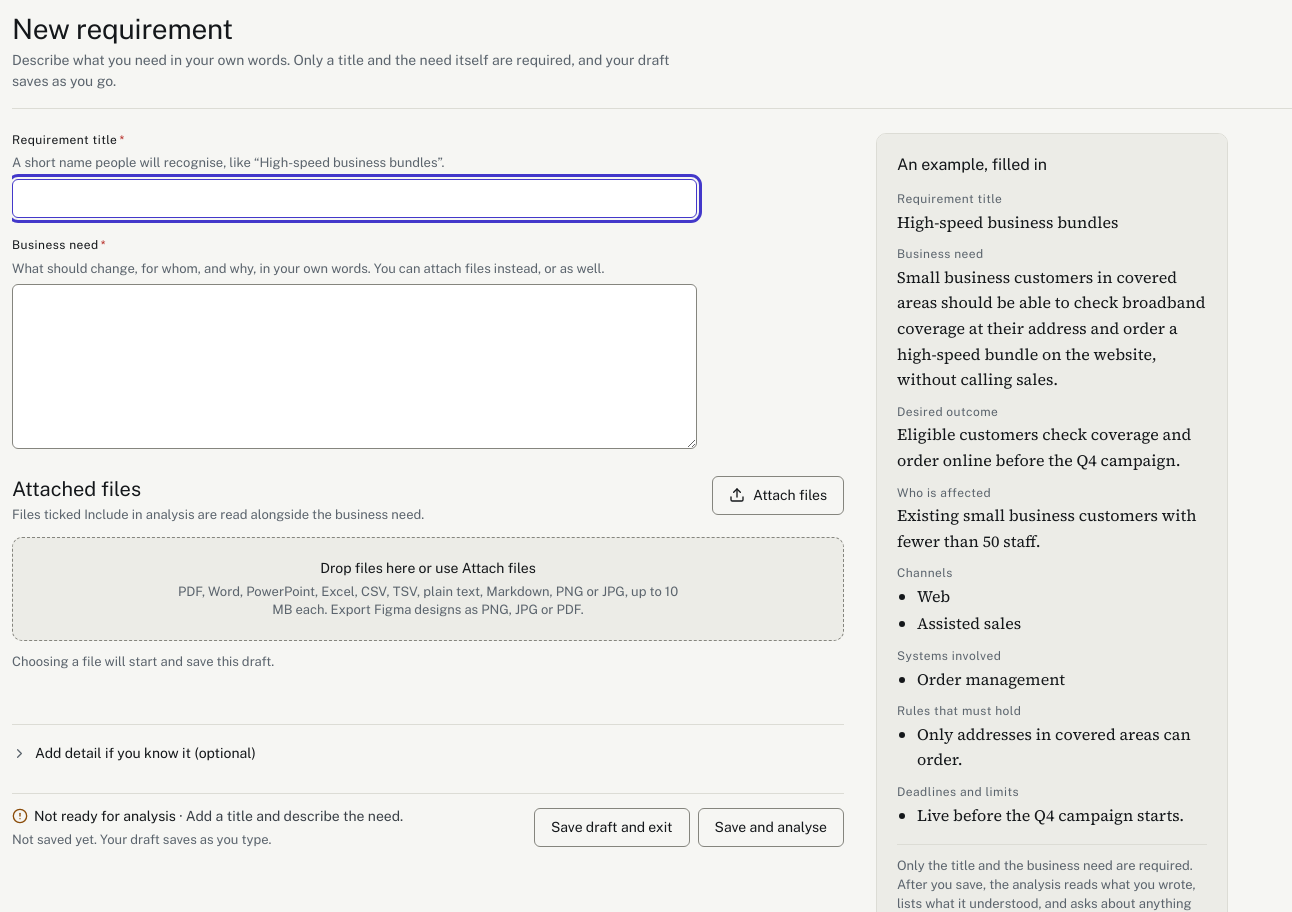
Test: NewRequirementPage › keeps the saved requirement available when analysis fails
Type "Safe draft" into the field labelled "Requirement title*" at (355,198), box [12, 179, 697, 218]
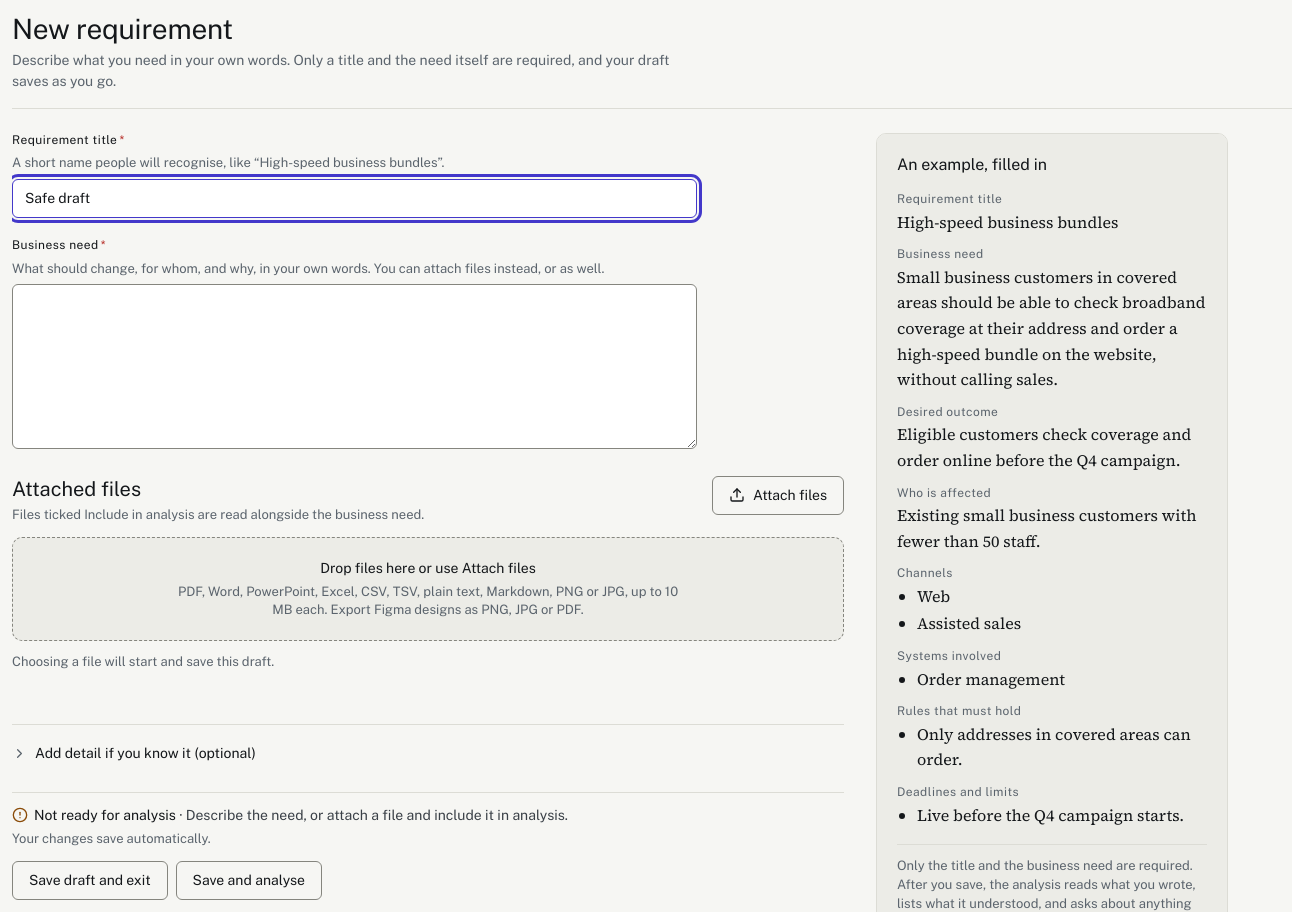
Type "A preserved source." into the text box labelled "Business need*" at (355,367), box [12, 284, 697, 450]
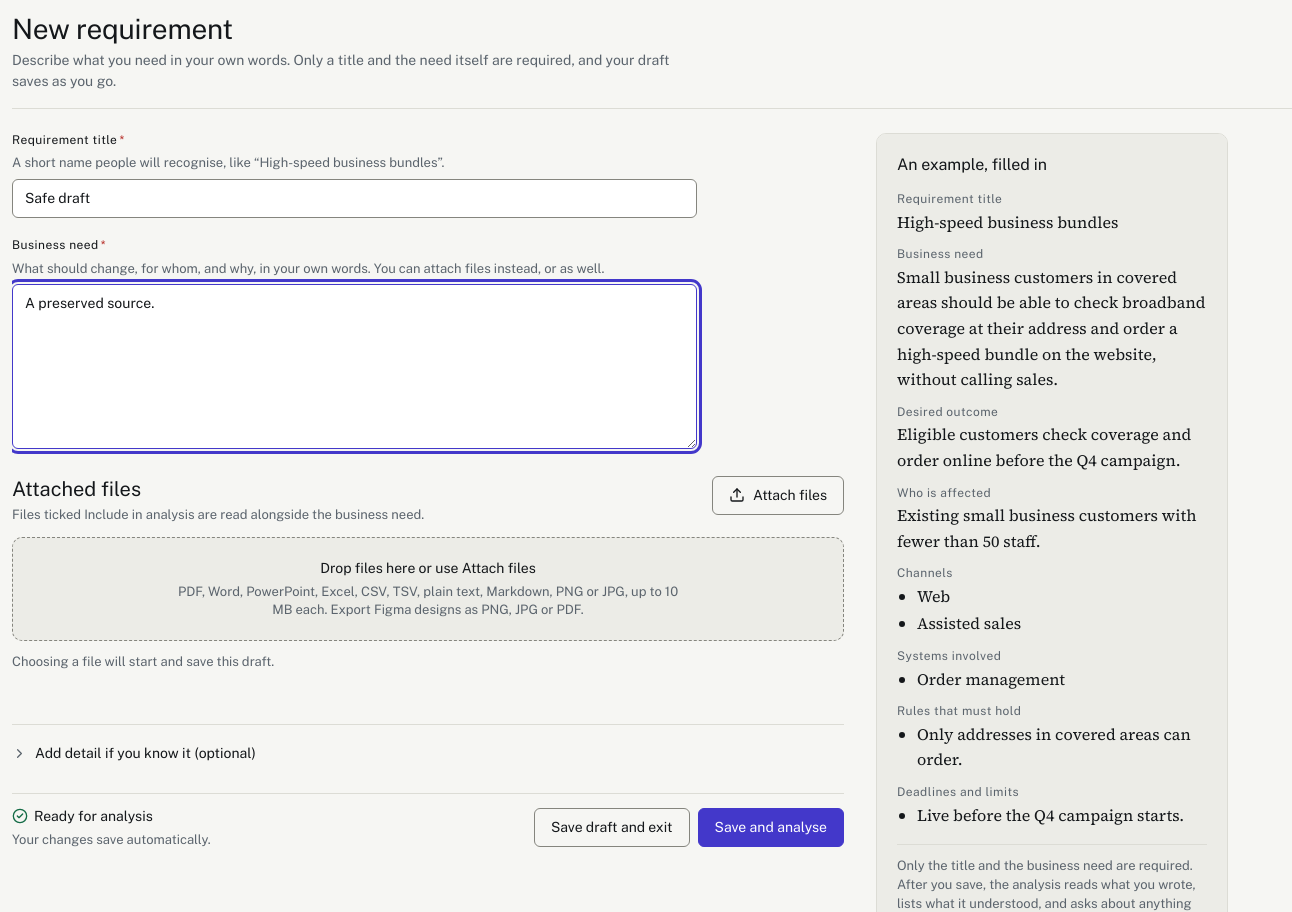
Click the button "Save and analyse" at (771,828), box [698, 808, 844, 848]
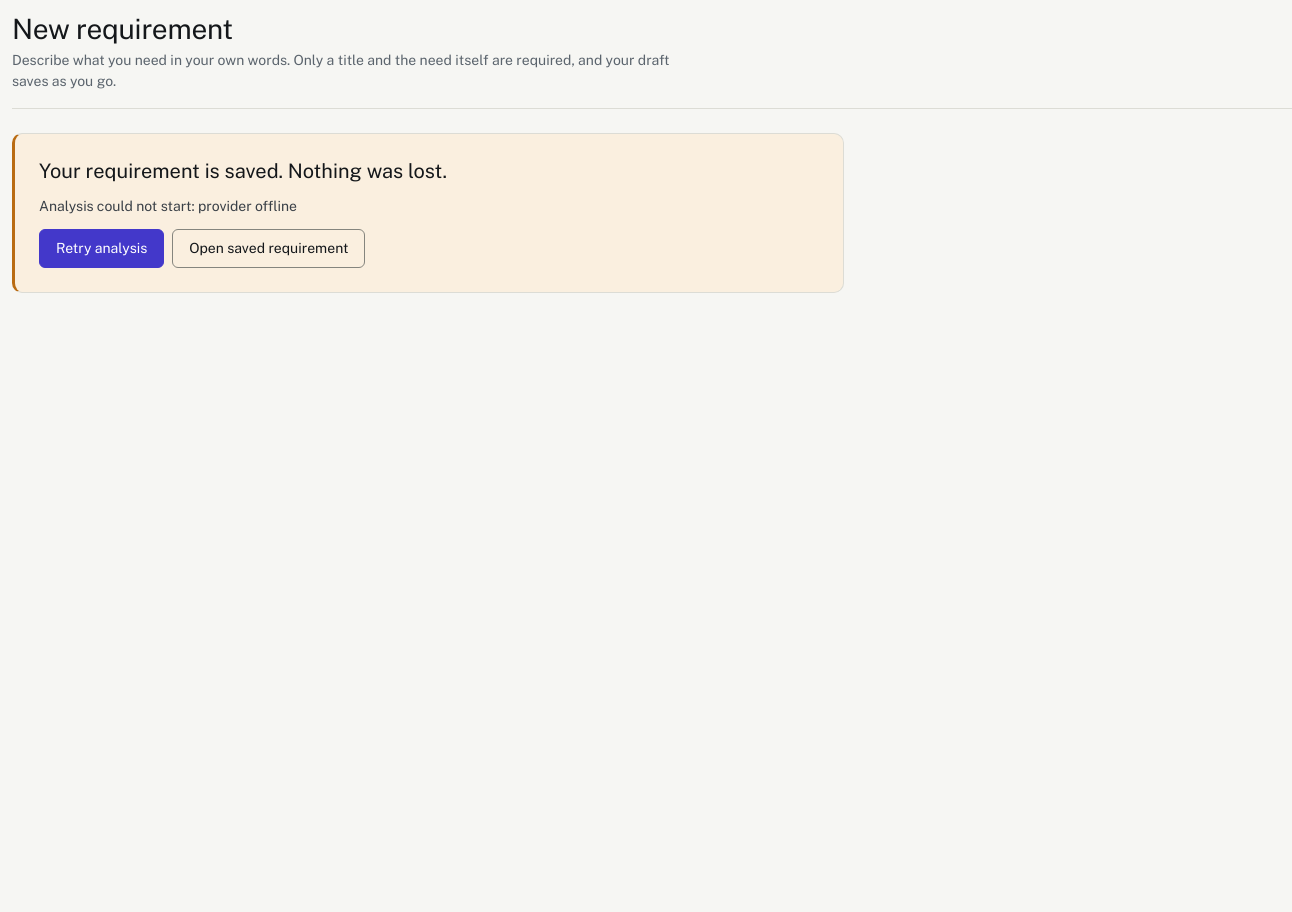
Result: the heading "Your requirement is saved. Nothing was lost." is shown at [39, 159, 447, 183]
Result: the button "Retry analysis" is shown at [39, 229, 164, 268]
